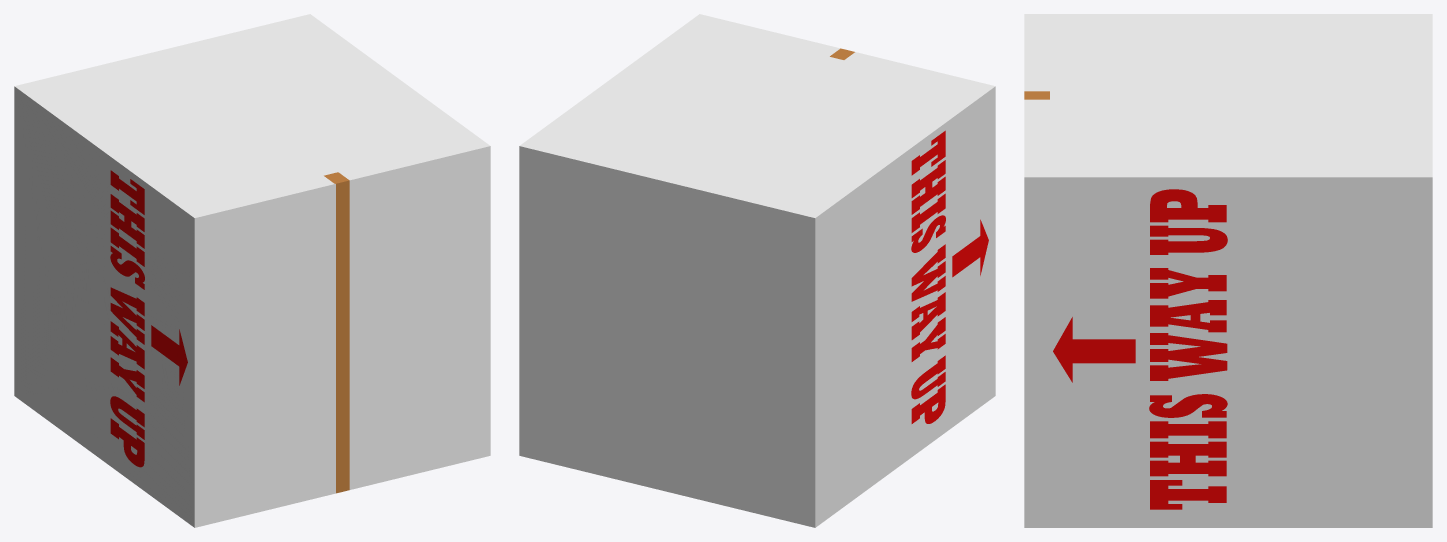
3 renders of one model, left to right at view 1: azimuth 30°, elevation 25°; view 2: azimuth 150°, elevation 25°; view 3: azimuth 270°, elevation 25°, orthographic. The views are drawn at different scales.
Visible parts, largest first — view 1: cardboard box; view 2: cardboard box; view 3: cardboard box.
Part boxes in pixels (<box>): cardboard box: <box>14,14,490,527</box>; cardboard box: <box>519,14,995,527</box>; cardboard box: <box>1024,14,1432,527</box>.
Size of the model in its own units: 36.49 by 36.49 by 38.52.
